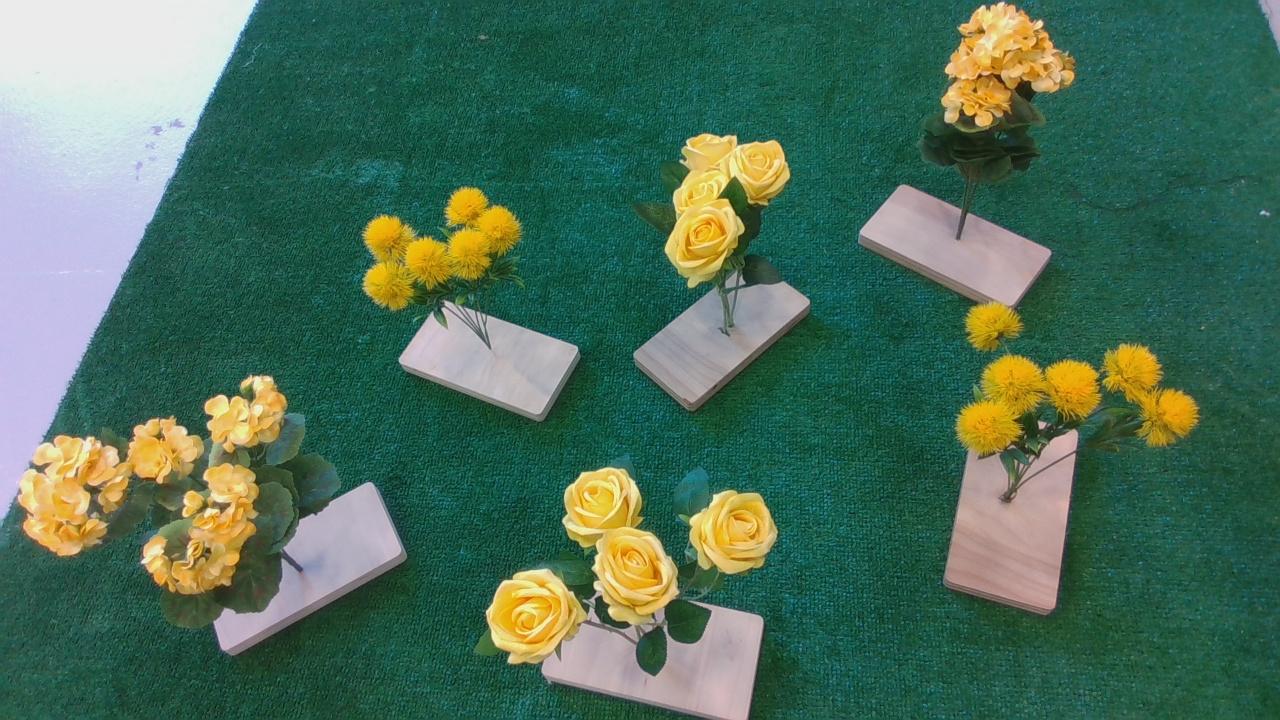dandelion: (959, 304, 1213, 467), (356, 189, 550, 325)
geranium: (16, 367, 354, 632), (922, 5, 1084, 201)
rose: (469, 457, 786, 675), (665, 132, 808, 312)
